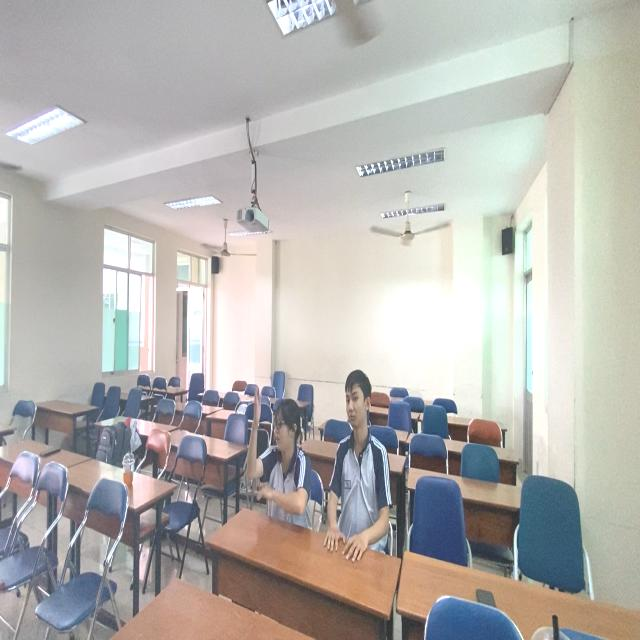raise_hand: (241, 355, 321, 540)
